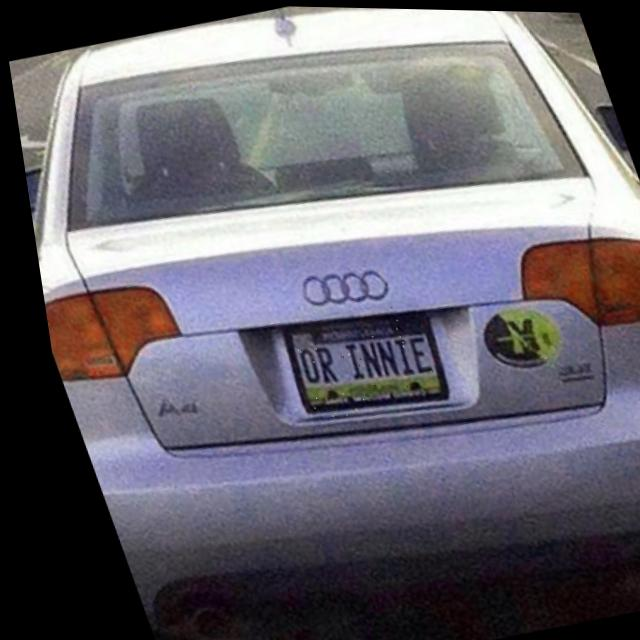license_plate: (266, 292, 443, 425)
